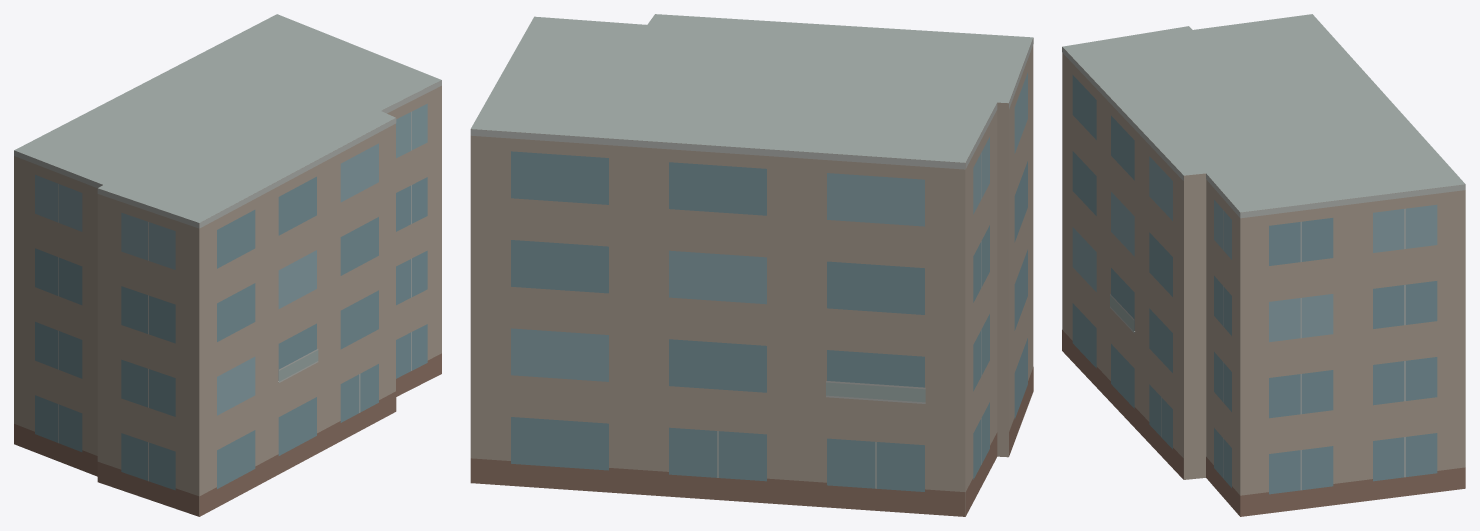
Rendered from survey-upis-32645785.glb.
The picture shows the model from 3 angles, left to right: view 1: azimuth 30°, elevation 25°; view 2: azimuth 150°, elevation 25°; view 3: azimuth 270°, elevation 25°; orthographic projection. The views are drawn at different scales.
Parts seen in each view (by area): view 1: survey-upis-32645785.tmp; view 2: survey-upis-32645785.tmp; view 3: survey-upis-32645785.tmp.
Boxes of the visible parts, x1=… form: survey-upis-32645785.tmp: x1=14, y1=14, x2=441, y2=516; survey-upis-32645785.tmp: x1=470, y1=14, x2=1033, y2=516; survey-upis-32645785.tmp: x1=1062, y1=14, x2=1465, y2=516.
Bounding box in the file's own units: 17.92 × 12.8 × 15.39.
